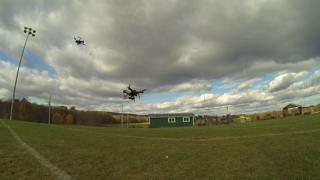UAV: (122, 84, 148, 102), (74, 36, 87, 46)
